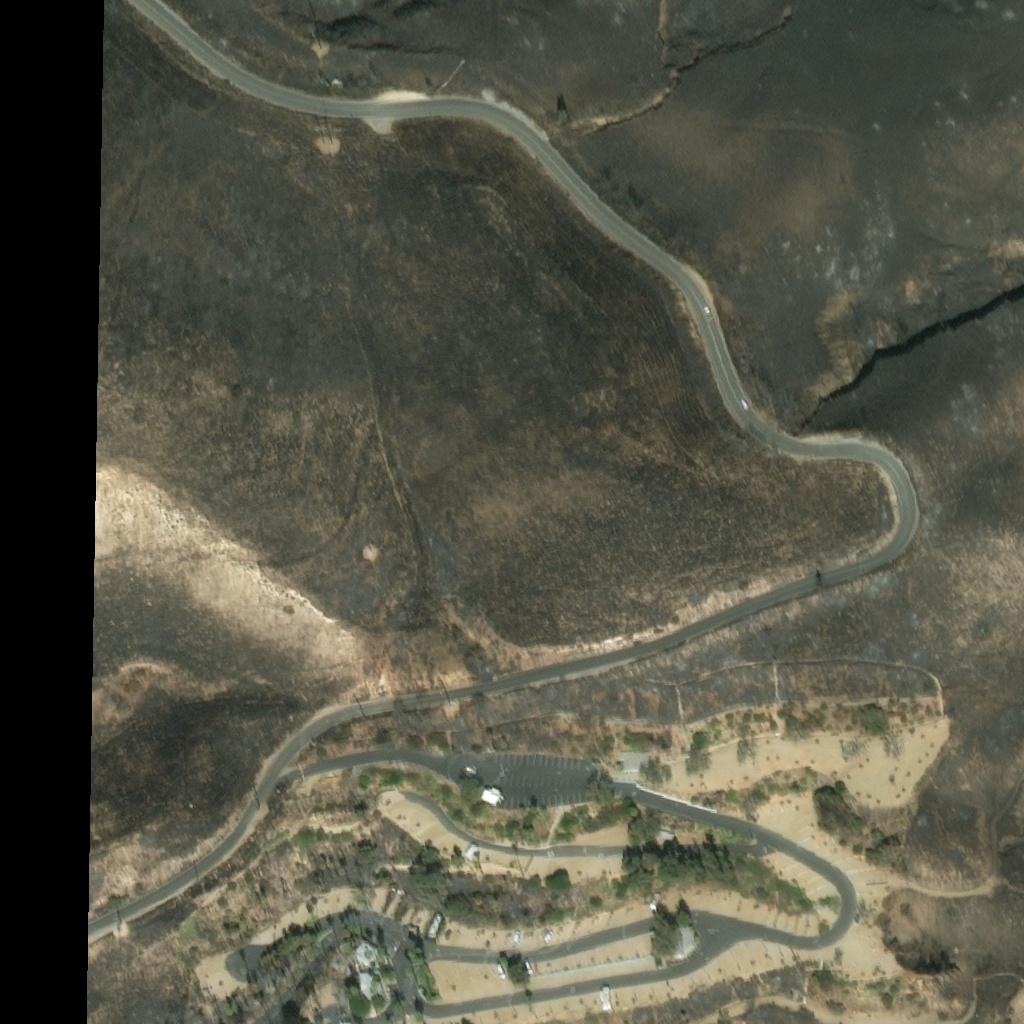0 no-damage: (616, 739, 644, 760), (480, 784, 501, 806)
3 destroyed: (327, 947, 352, 974), (330, 974, 352, 1003)
4 un-classified: (353, 939, 388, 971), (360, 972, 381, 1000)
